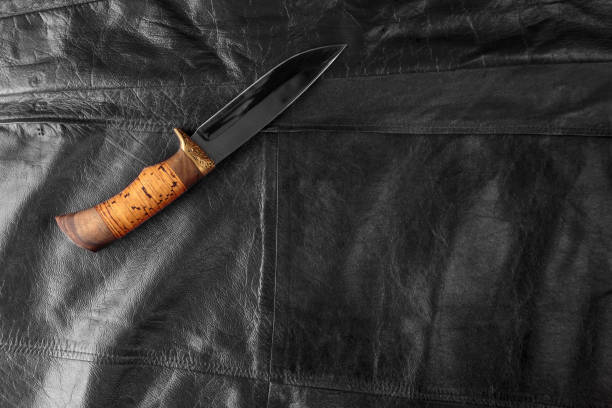knife: (52, 39, 352, 255)
